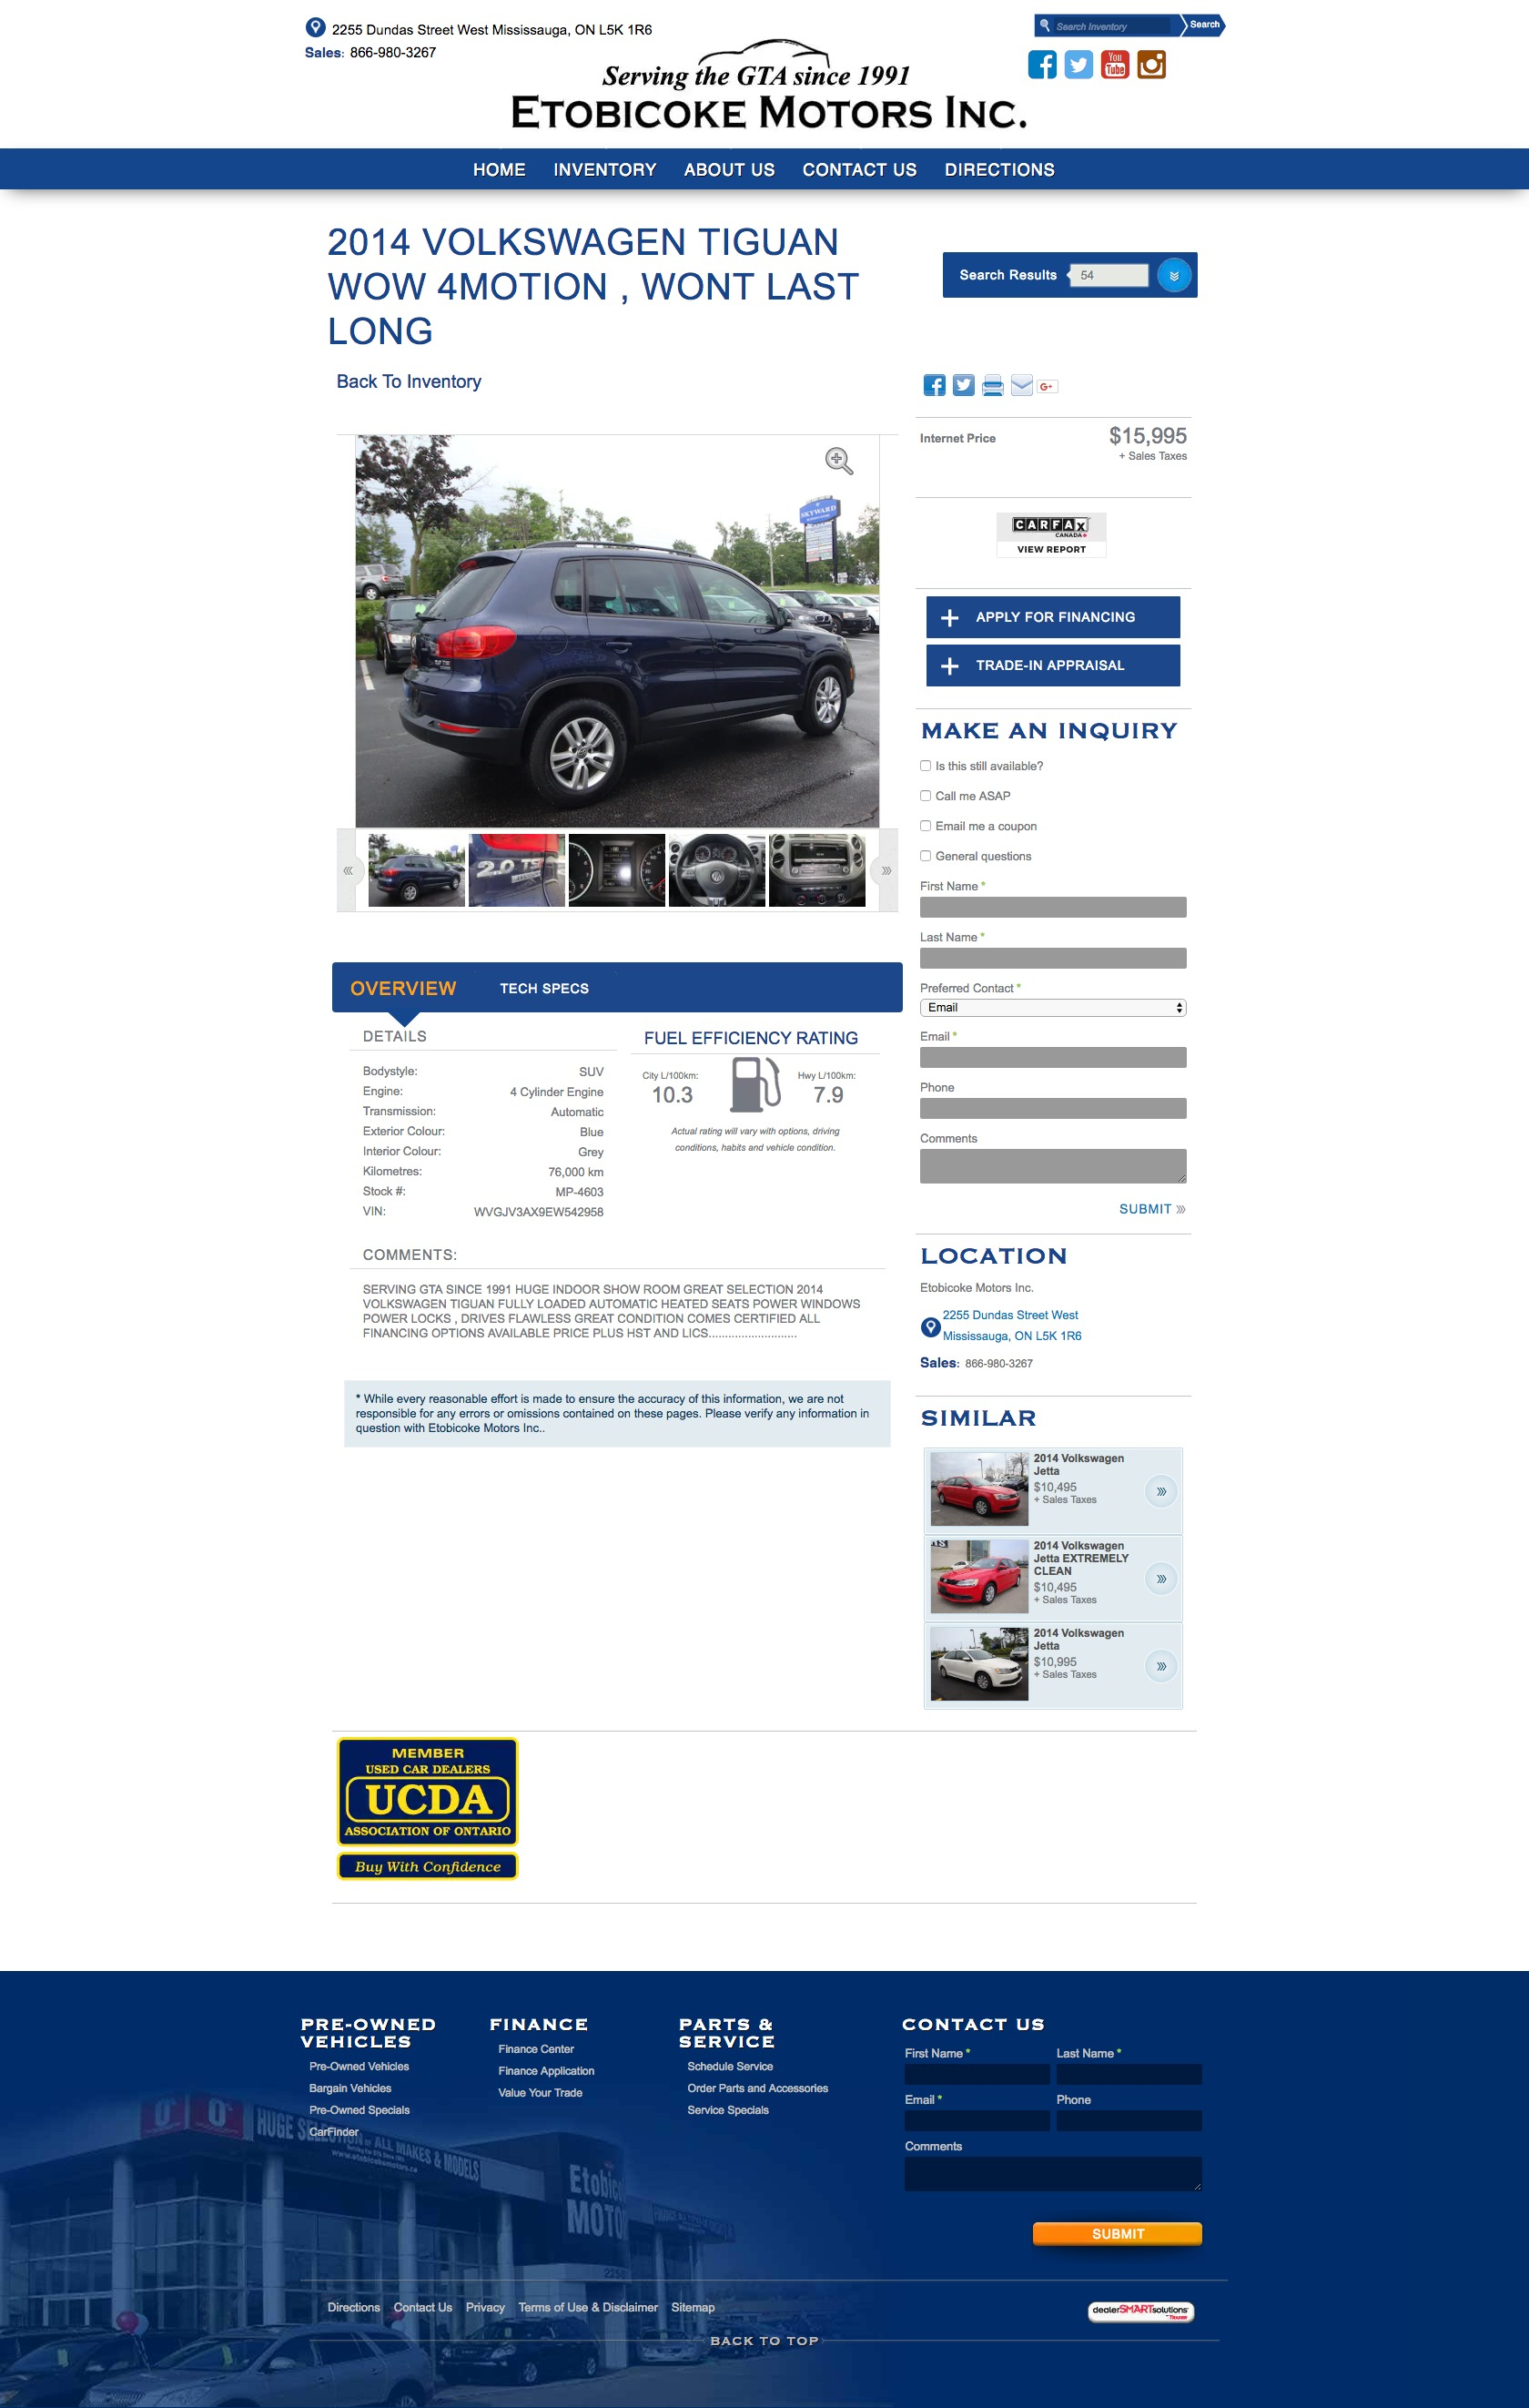car: (879, 865, 892, 878)
